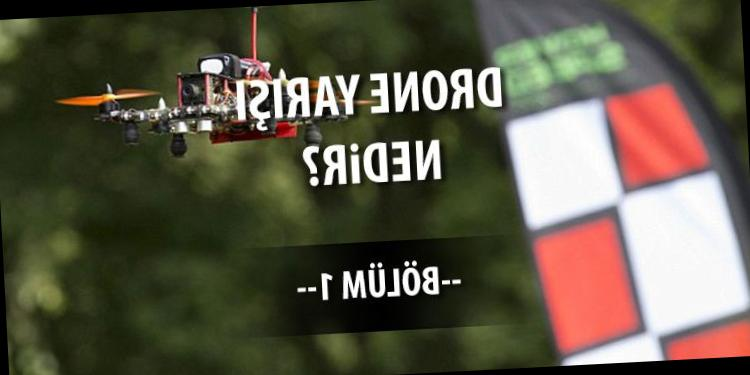drone: (44, 59, 399, 157)
